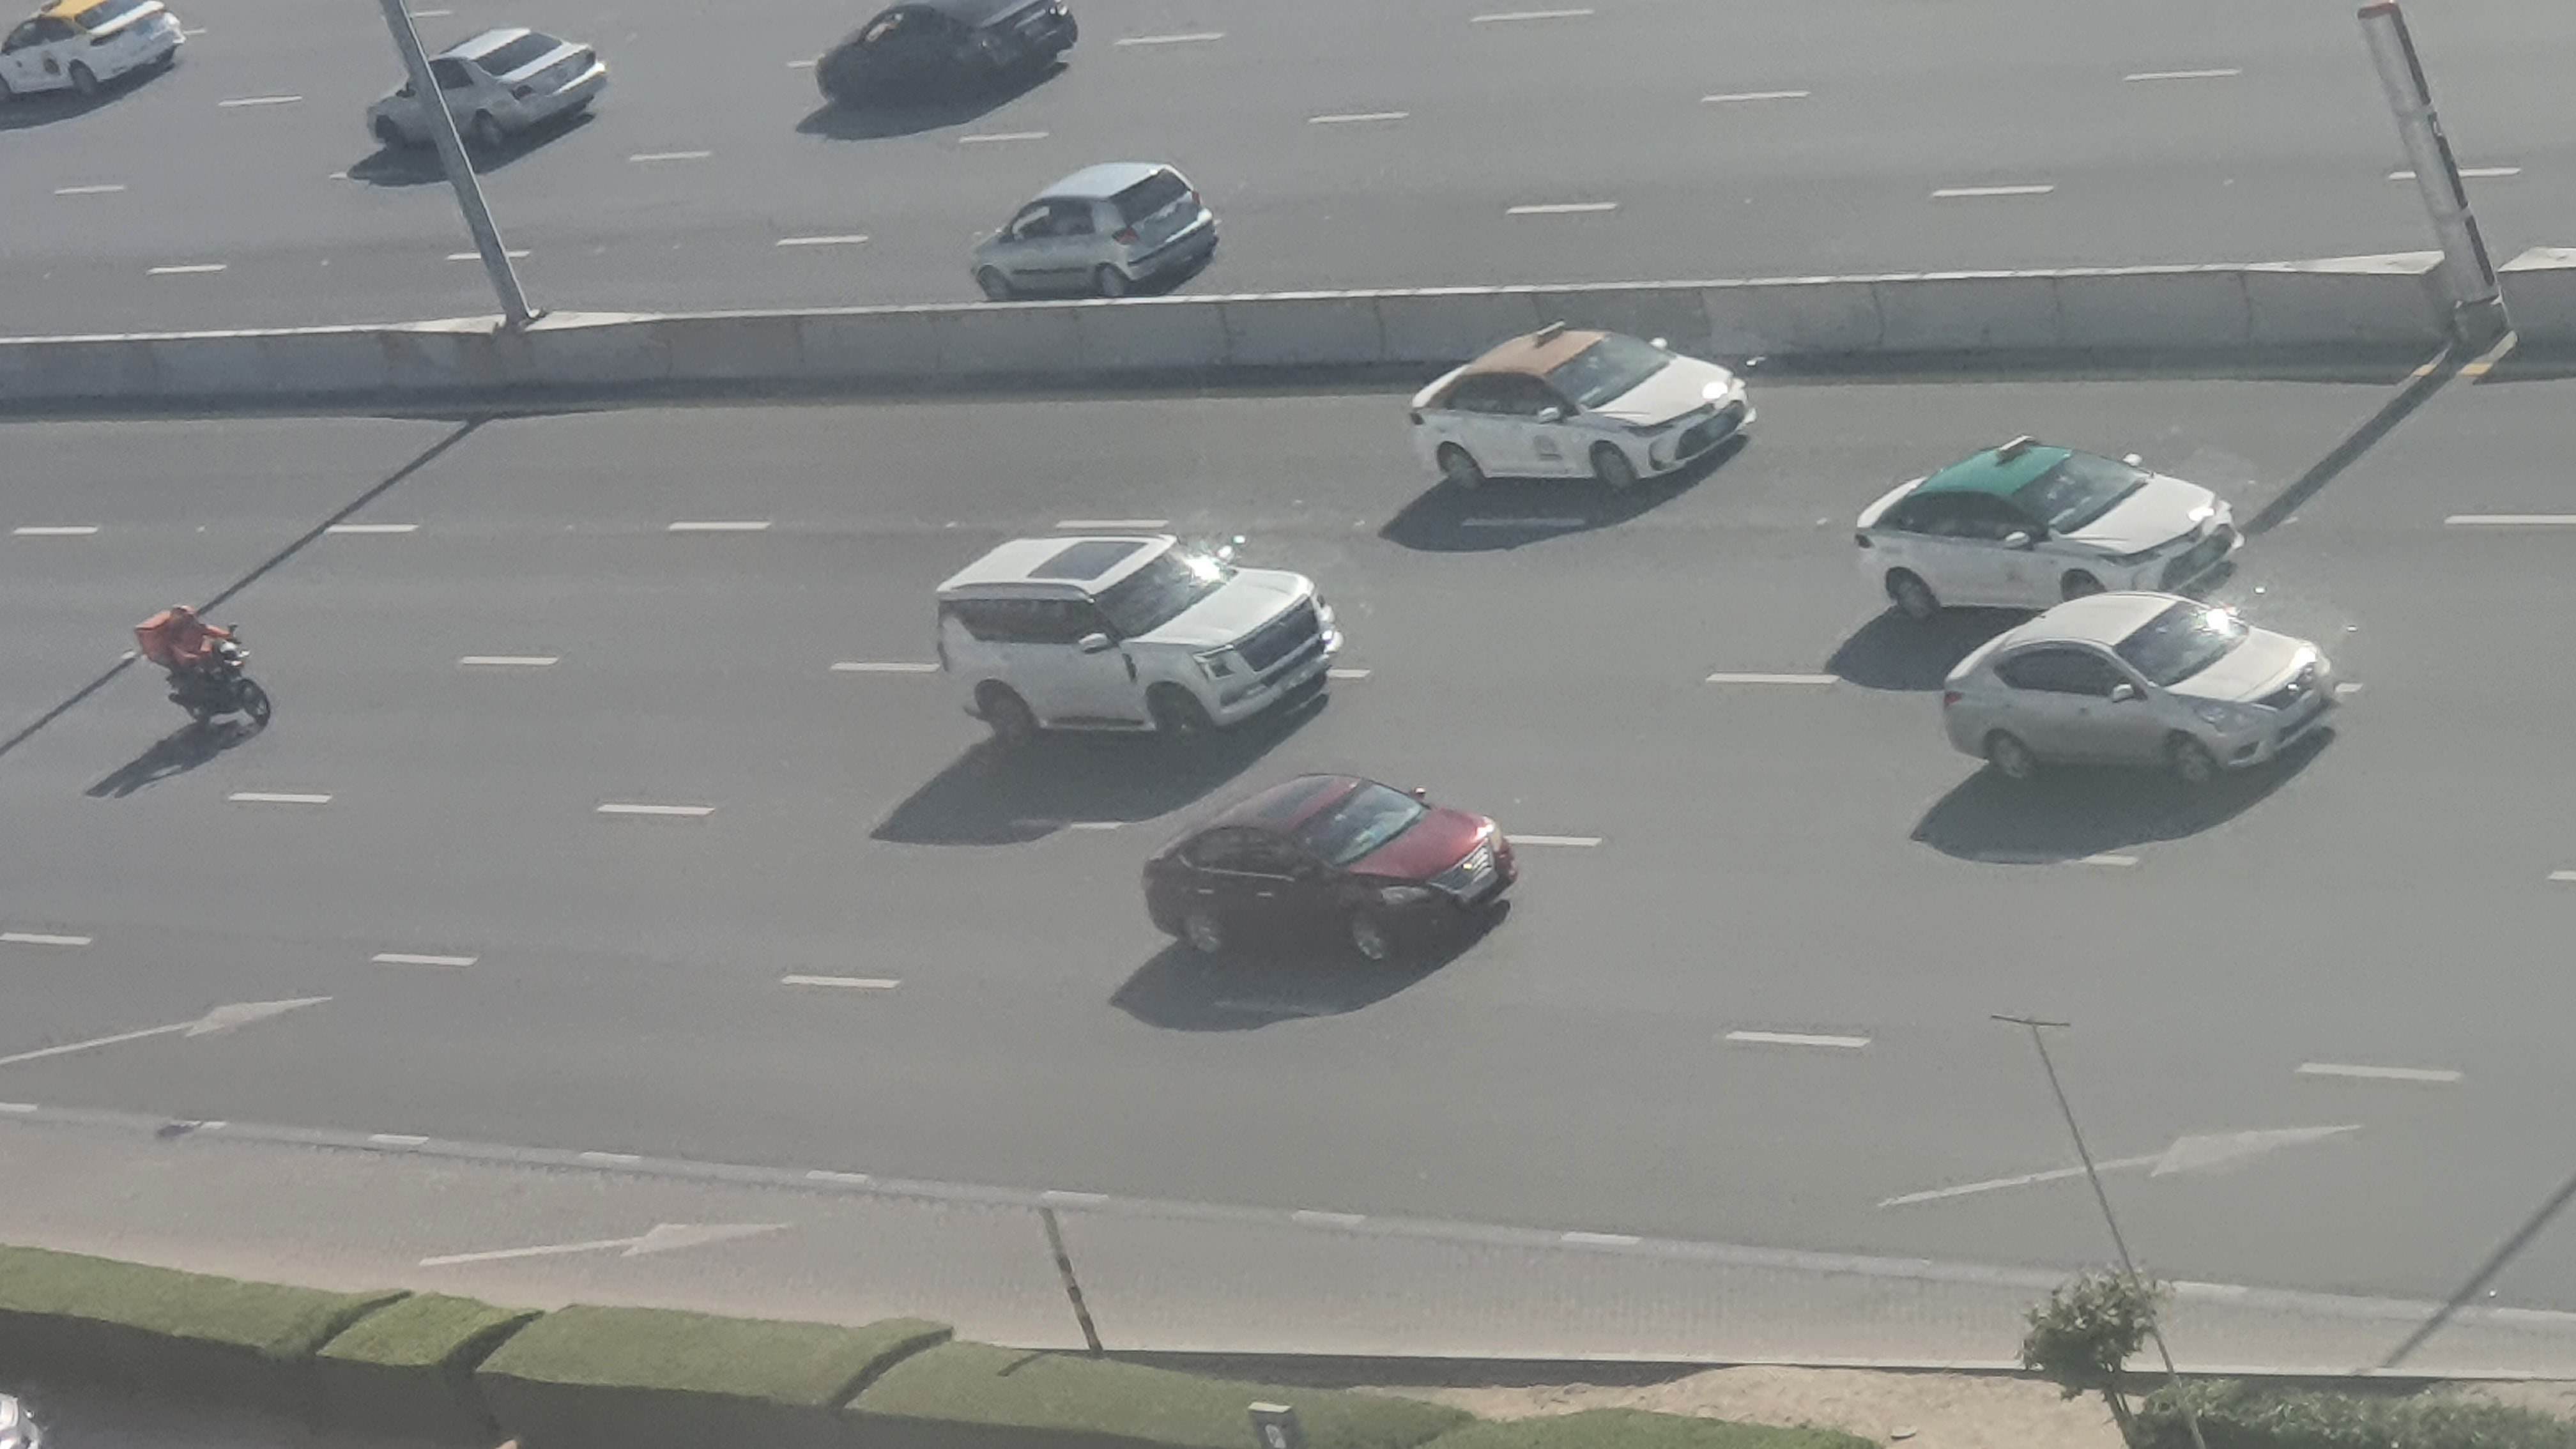NotSunroof: (1934, 584, 2325, 796), (1858, 439, 2245, 614), (1405, 317, 1755, 494)
Sunroof: (920, 518, 1339, 748), (1143, 763, 1511, 975)
